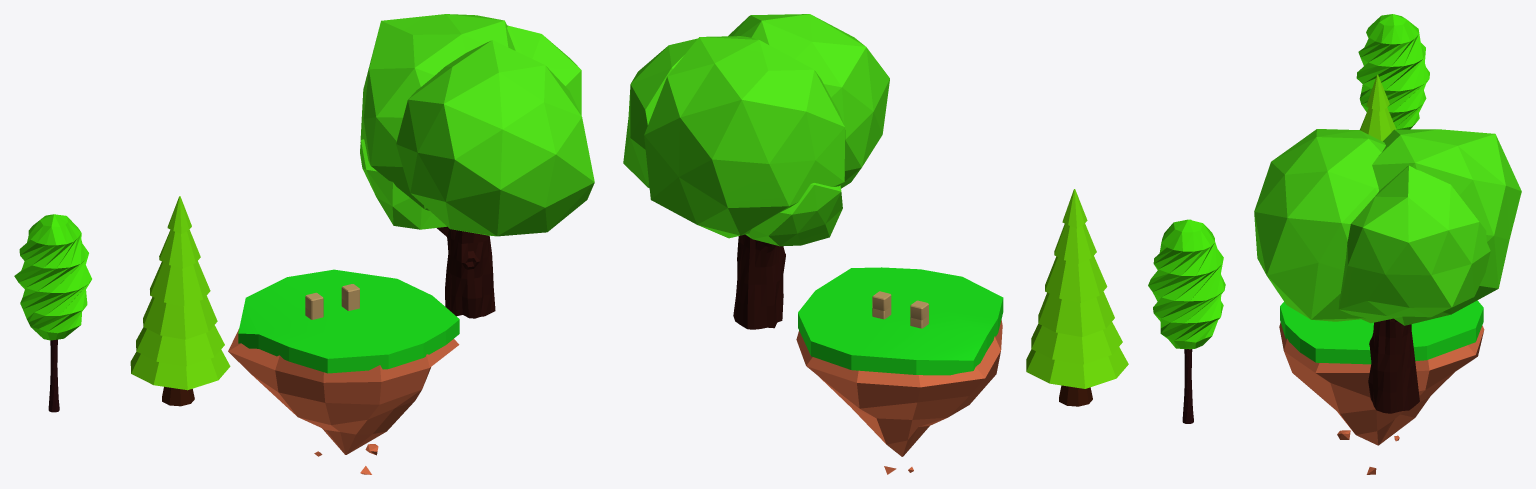
Rendered from treesjob.fbx.
The picture shows the model from 3 angles, left to right: view 1: azimuth 30°, elevation 25°; view 2: azimuth 150°, elevation 25°; view 3: azimuth 270°, elevation 25°; orthographic projection. The views are drawn at different scales.
Parts seen in each view (by area): view 1: Icosphere, Green_platform, Cylinder, Island, low poly tree, Cylinder.001, Dummy13; view 2: Icosphere, Green_platform, Cylinder, Island, low poly tree, Cylinder.001, Dummy13; view 3: Icosphere, Island, Green_platform, low poly tree, Cylinder.001, Cylinder.
Boxes of the visible parts, x1=… form: Icosphere: x1=360, y1=14, x2=594, y2=236; Green_platform: x1=238, y1=269, x2=459, y2=373; Cylinder: x1=130, y1=196, x2=230, y2=406; Island: x1=228, y1=328, x2=459, y2=474; low poly tree: x1=14, y1=214, x2=91, y2=412; Cylinder.001: x1=437, y1=226, x2=495, y2=318; Dummy13: x1=305, y1=284, x2=359, y2=311; Icosphere: x1=623, y1=14, x2=889, y2=246; Green_platform: x1=798, y1=267, x2=1003, y2=375; Cylinder: x1=1026, y1=189, x2=1128, y2=406; Island: x1=796, y1=320, x2=1002, y2=474; low poly tree: x1=1148, y1=219, x2=1225, y2=423; Cylinder.001: x1=733, y1=234, x2=785, y2=329; Dummy13: x1=872, y1=291, x2=928, y2=320; Icosphere: x1=1254, y1=129, x2=1521, y2=325; Island: x1=1279, y1=322, x2=1484, y2=474; Green_platform: x1=1280, y1=300, x2=1483, y2=364; low poly tree: x1=1356, y1=14, x2=1429, y2=129; Cylinder.001: x1=1368, y1=318, x2=1419, y2=413; Cylinder: x1=1360, y1=74, x2=1396, y2=141.
Size of the model in its own units: 4573 by 3190 by 1957.
